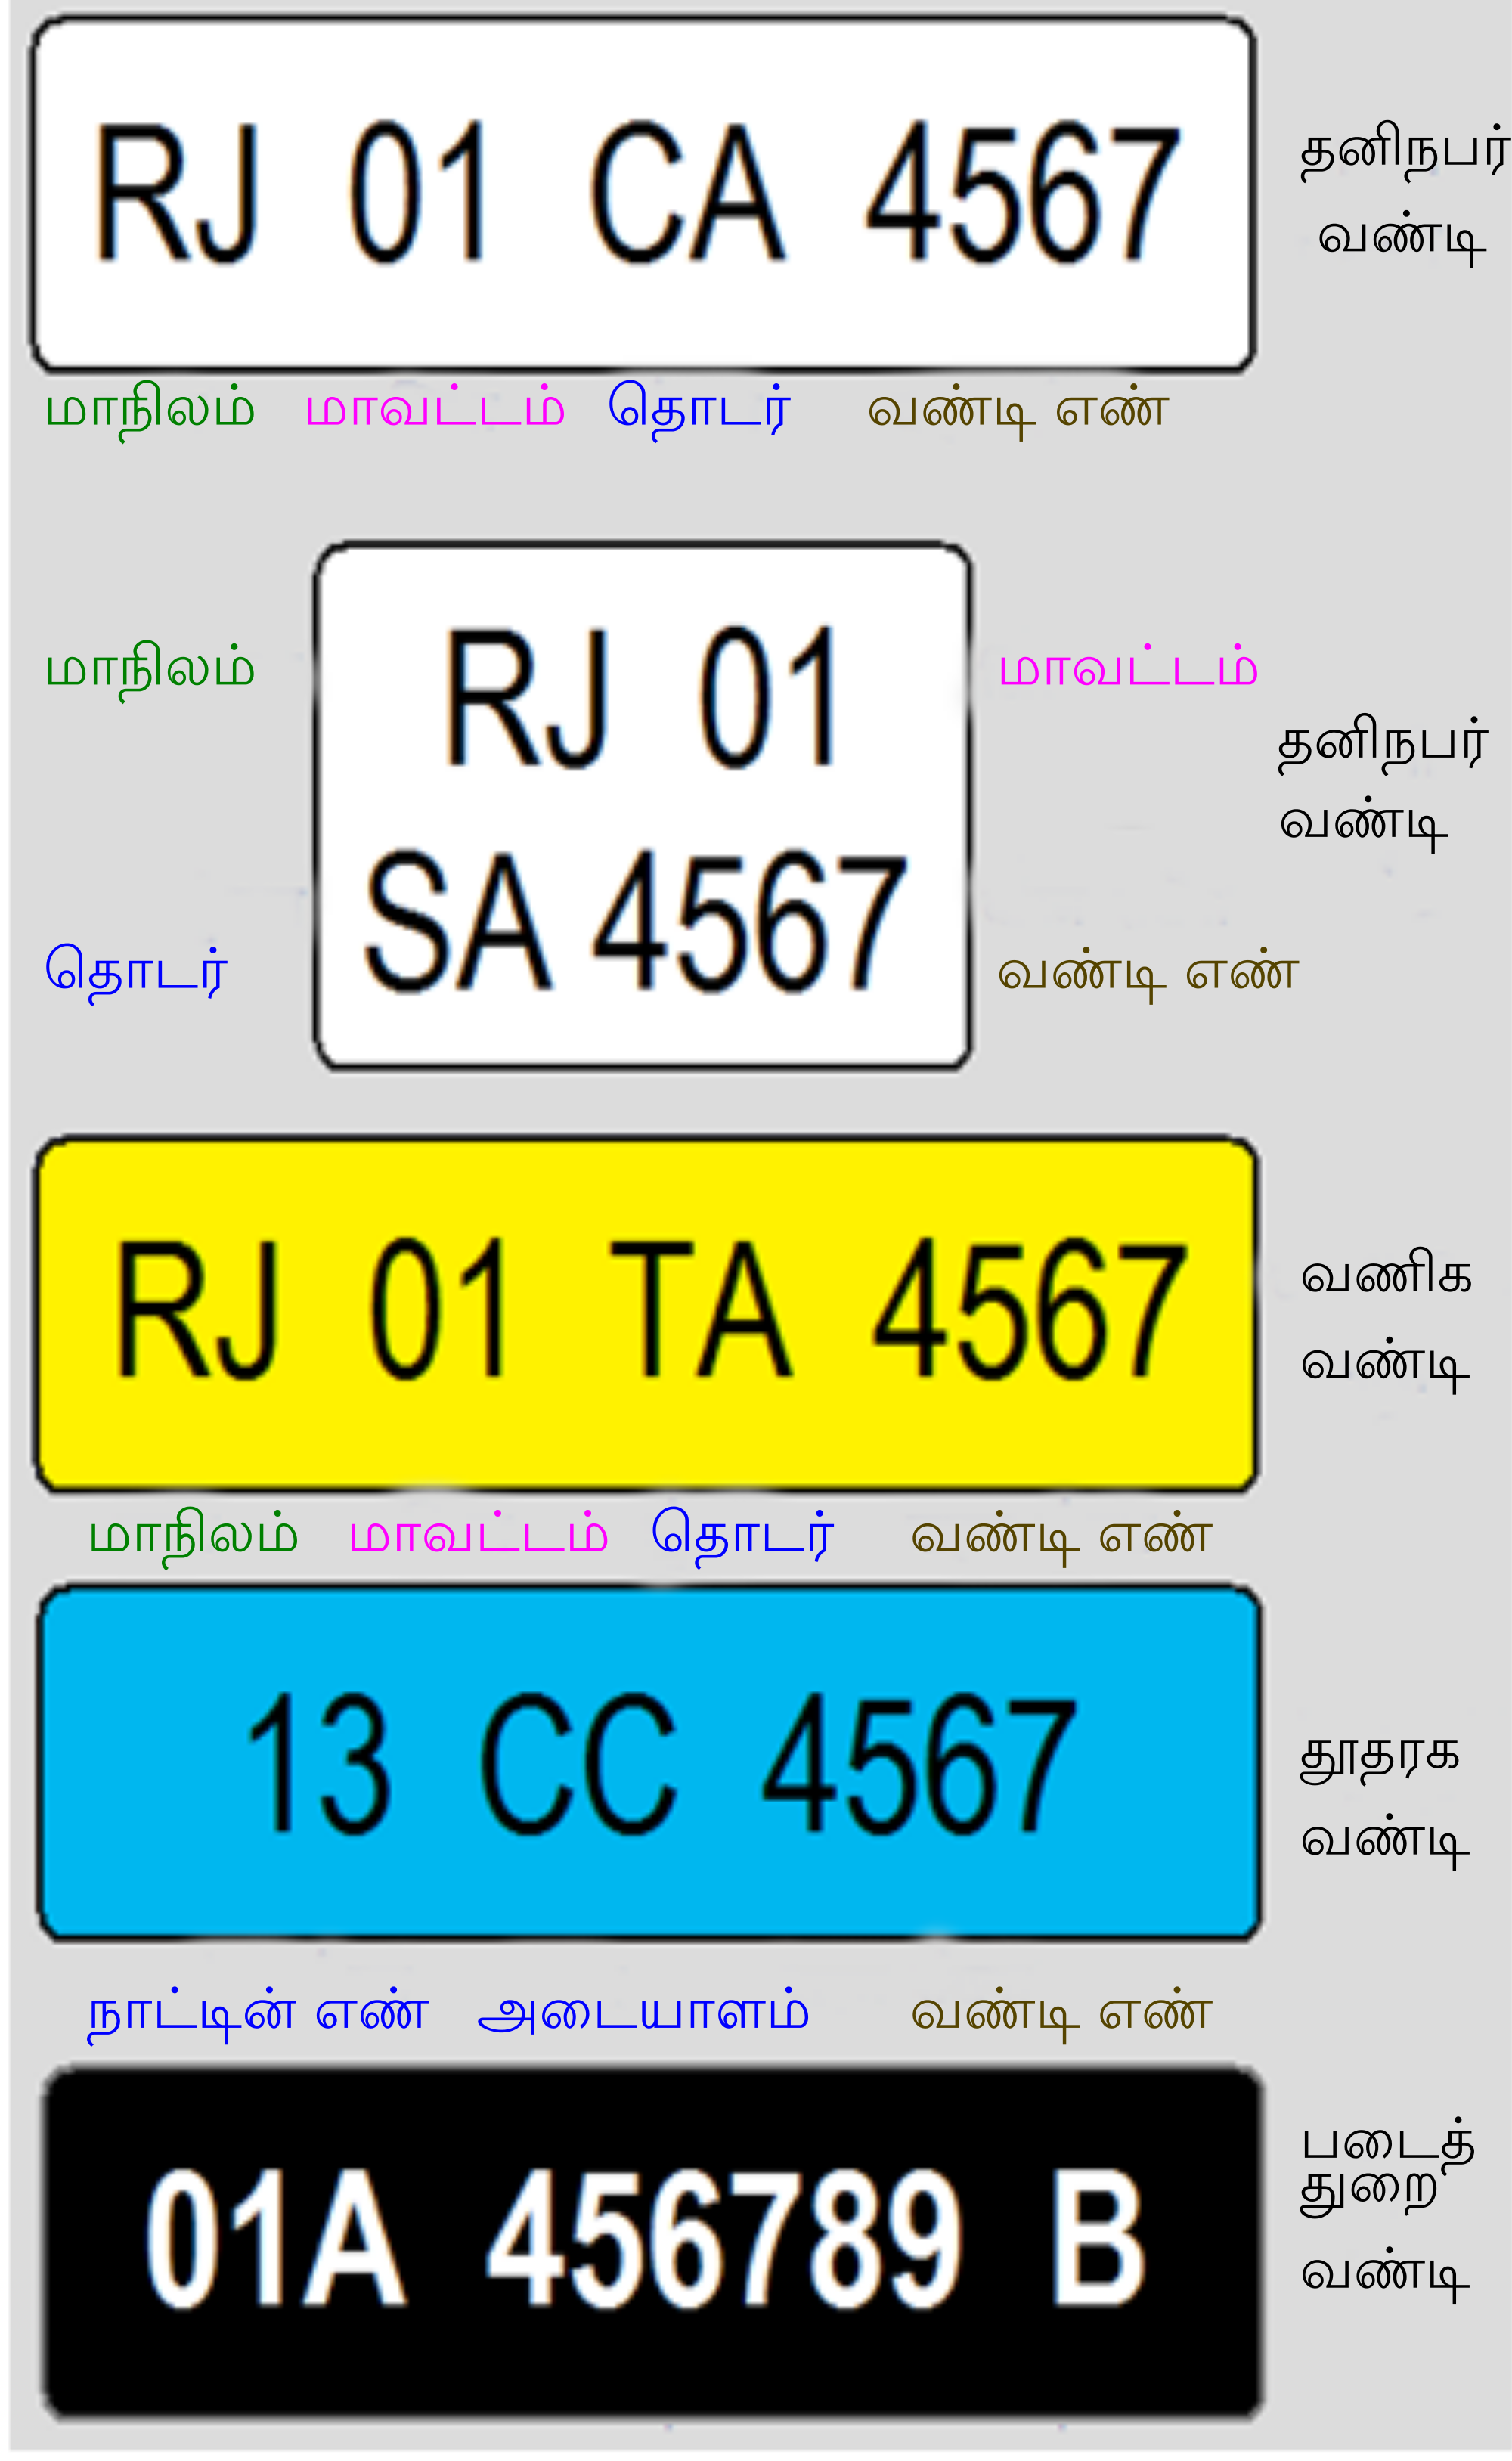number_plate: (24, 8, 1268, 378), (35, 1579, 1259, 1945), (45, 2065, 1265, 2424), (32, 1134, 1265, 1483), (311, 537, 984, 1071)
